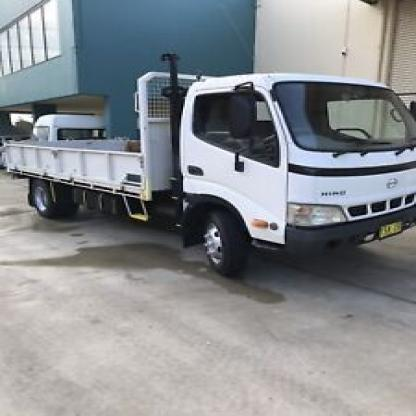dump_truck: (0, 52, 414, 278)
